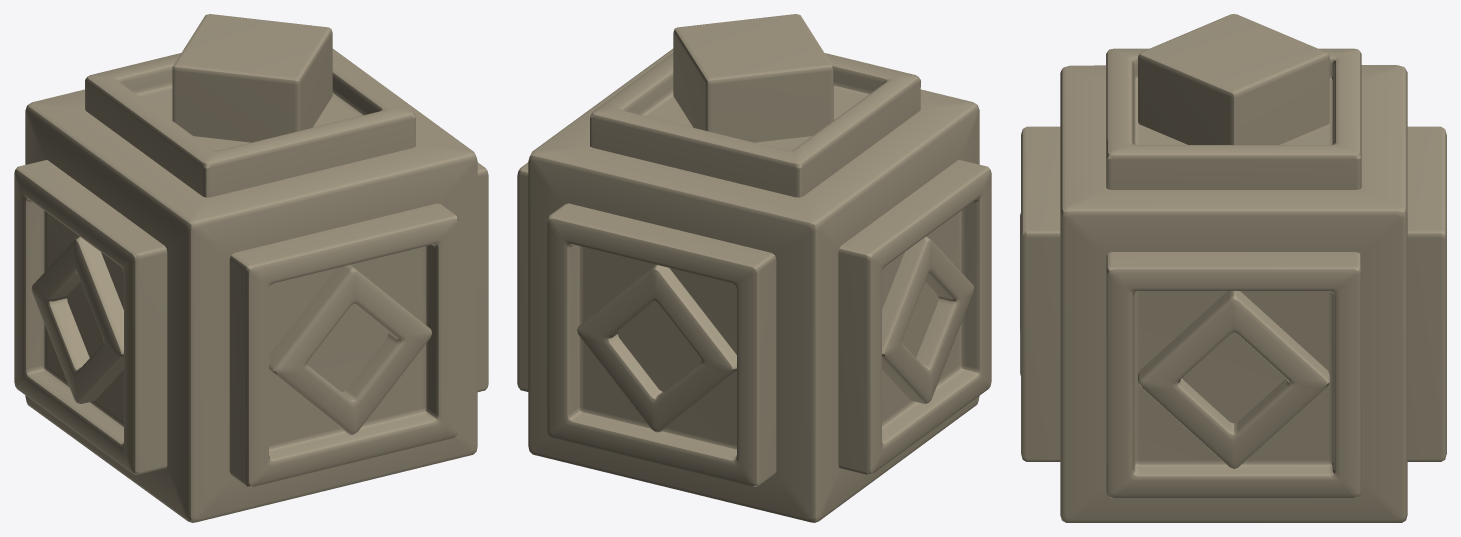
File: TempleProps_001.fbx
3 renders of one model, left to right at view 1: azimuth 30°, elevation 25°; view 2: azimuth 150°, elevation 25°; view 3: azimuth 270°, elevation 25°, orthographic. The views are drawn at different scales.
Parts seen in each view (by area): view 1: TempleProps_001; view 2: TempleProps_001; view 3: TempleProps_001.
Part boxes in pixels (x1,y1,x2,y2): TempleProps_001: (14,14,488,522); TempleProps_001: (517,14,991,522); TempleProps_001: (1020,14,1446,522).
Bounding box in the file's own units: 0.8245 × 0.8484 × 0.8207.
